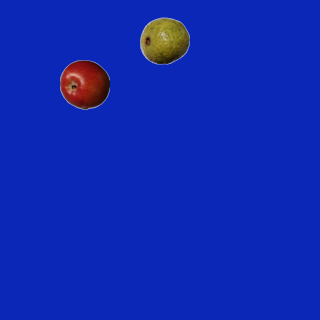Apple Braeburn: (59, 59, 109, 109)
Guava: (139, 15, 189, 65)
